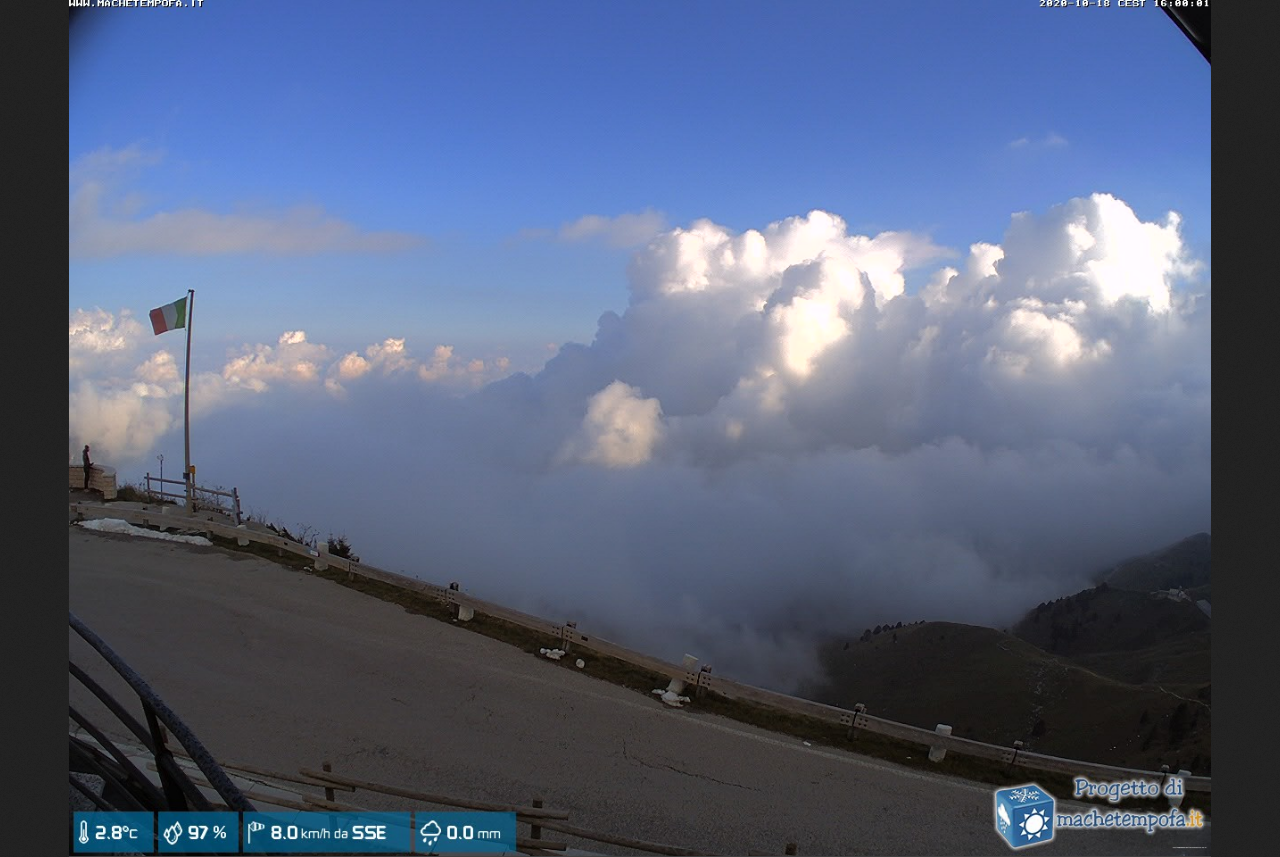maybe: (139, 282, 204, 338)
